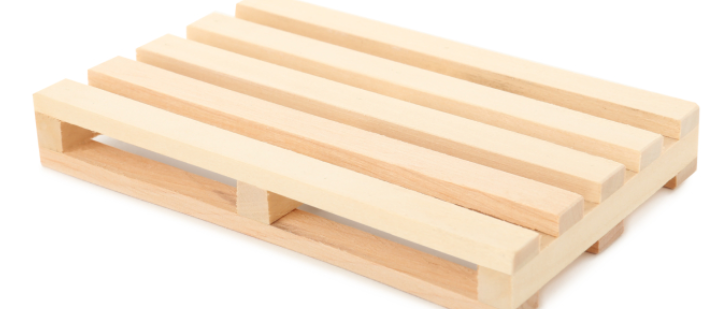hole pallet: (34, 95, 487, 299)
